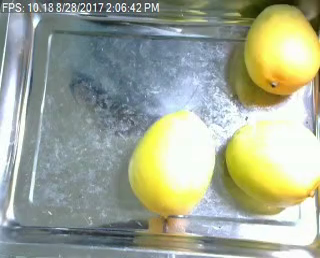Mango: (127, 111, 220, 219), (226, 114, 320, 208), (240, 2, 320, 99)
